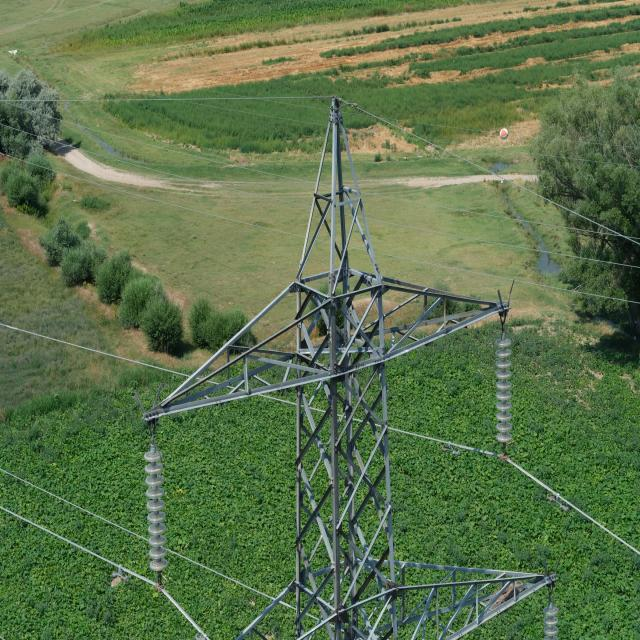direk: (290, 104, 403, 640)
